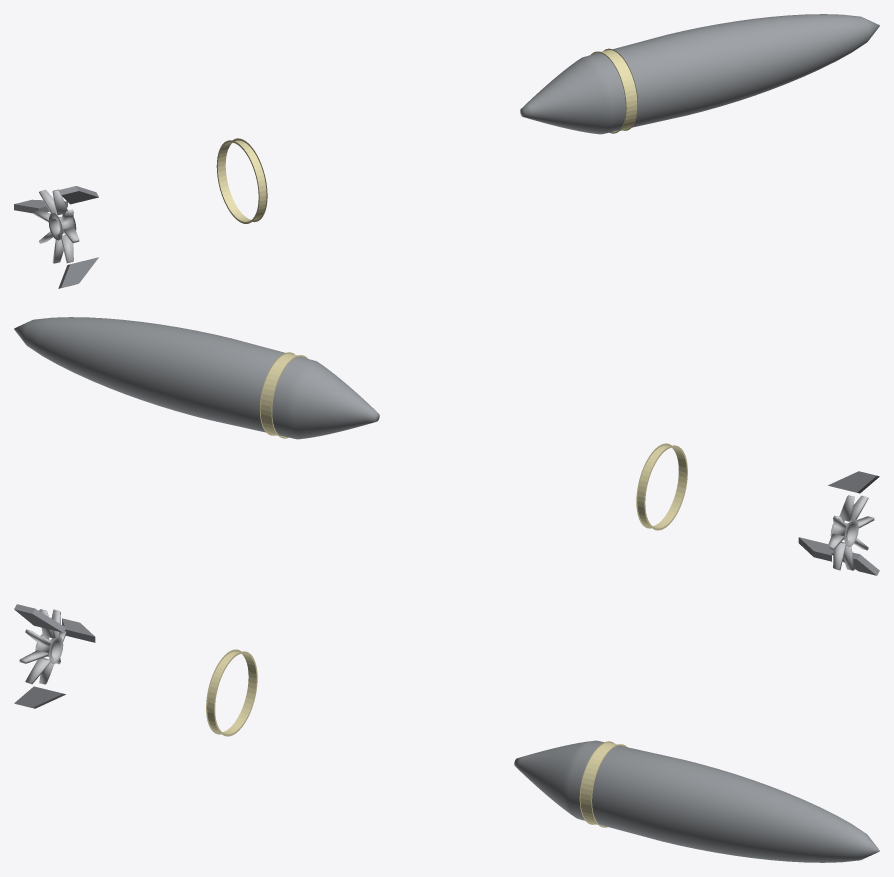
Rendered from US_TORP_Mk18_LOD0.fbx.
The picture shows the model from 3 angles, top to bottom: view 1: azimuth 30°, elevation 25°; view 2: azimuth 150°, elevation 25°; view 3: azimuth 330°, elevation 25°; orthographic projection.
Visible parts, largest first — view 1: WPN_US_TORP_Mk18_LOD0_Body, WPN_US_TORP_Mk18_LOD0_Marking, WPN_US_TORP_Mk18_LOD0_Propulsor, WPN_US_TORP_Mk18_LOD0_Fins; view 2: WPN_US_TORP_Mk18_LOD0_Body, WPN_US_TORP_Mk18_LOD0_Marking, WPN_US_TORP_Mk18_LOD0_Propulsor, WPN_US_TORP_Mk18_LOD0_Fins; view 3: WPN_US_TORP_Mk18_LOD0_Body, WPN_US_TORP_Mk18_LOD0_Marking, WPN_US_TORP_Mk18_LOD0_Fins, WPN_US_TORP_Mk18_LOD0_Propulsor.
Boxes of the visible parts, left/top/right/bottom form: WPN_US_TORP_Mk18_LOD0_Body: left=520, top=14, right=879, bottom=134; WPN_US_TORP_Mk18_LOD0_Marking: left=216, top=48, right=637, bottom=223; WPN_US_TORP_Mk18_LOD0_Propulsor: left=33, top=189, right=79, bottom=263; WPN_US_TORP_Mk18_LOD0_Fins: left=14, top=186, right=98, bottom=288; WPN_US_TORP_Mk18_LOD0_Body: left=14, top=317, right=379, bottom=439; WPN_US_TORP_Mk18_LOD0_Marking: left=259, top=352, right=687, bottom=530; WPN_US_TORP_Mk18_LOD0_Propulsor: left=828, top=495, right=874, bottom=570; WPN_US_TORP_Mk18_LOD0_Fins: left=798, top=471, right=879, bottom=575; WPN_US_TORP_Mk18_LOD0_Body: left=514, top=740, right=879, bottom=862; WPN_US_TORP_Mk18_LOD0_Marking: left=206, top=649, right=627, bottom=827; WPN_US_TORP_Mk18_LOD0_Fins: left=14, top=604, right=95, bottom=708; WPN_US_TORP_Mk18_LOD0_Propulsor: left=19, top=609, right=66, bottom=684.
Size of the model in its own units: 6.17 by 0.6644 by 0.6967.
